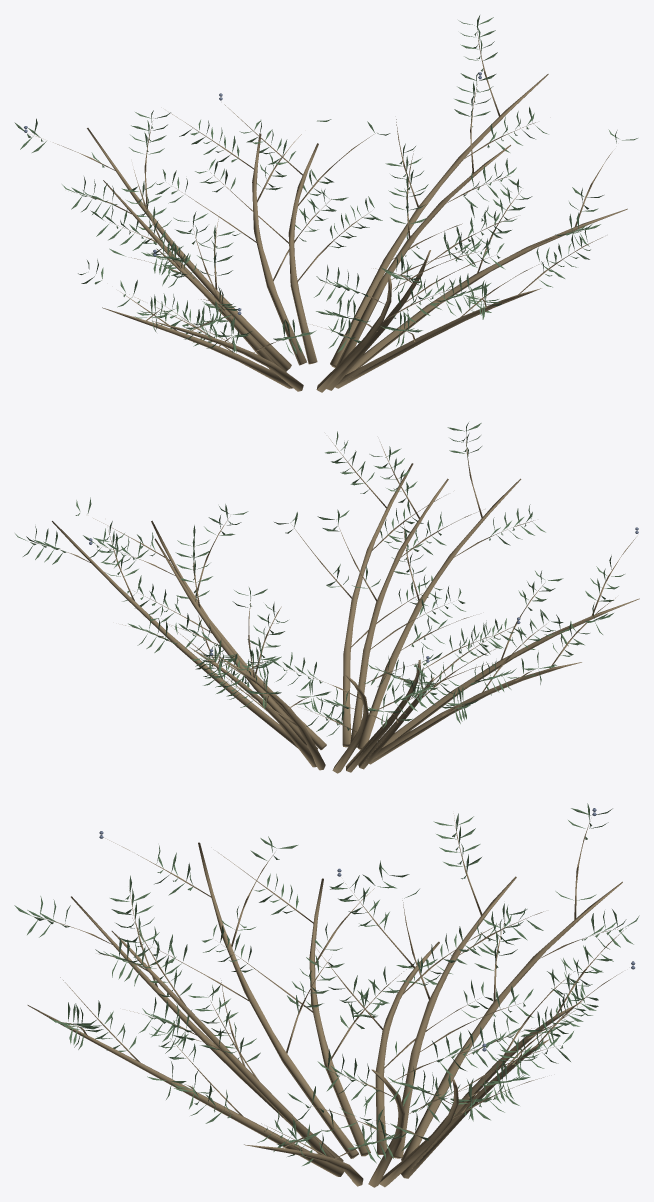
The model's file is Romarin_2_Niveau1.fbx.
3 views of the same model, one above another, from view 1: azimuth 30°, elevation 25°; view 2: azimuth 150°, elevation 25°; view 3: azimuth 270°, elevation 25° (orthographic). The views are drawn at different scales.
Visible parts, largest first — view 1: Romarin_2_Niveau1; view 2: Romarin_2_Niveau1; view 3: Romarin_2_Niveau1.
Part boxes in pixels (x1,y1,x2,y2): Romarin_2_Niveau1: (14,15,637,392); Romarin_2_Niveau1: (15,422,639,773); Romarin_2_Niveau1: (14,803,639,1187).
Bounding box in the file's own units: 91.14 × 40.03 × 80.32.
